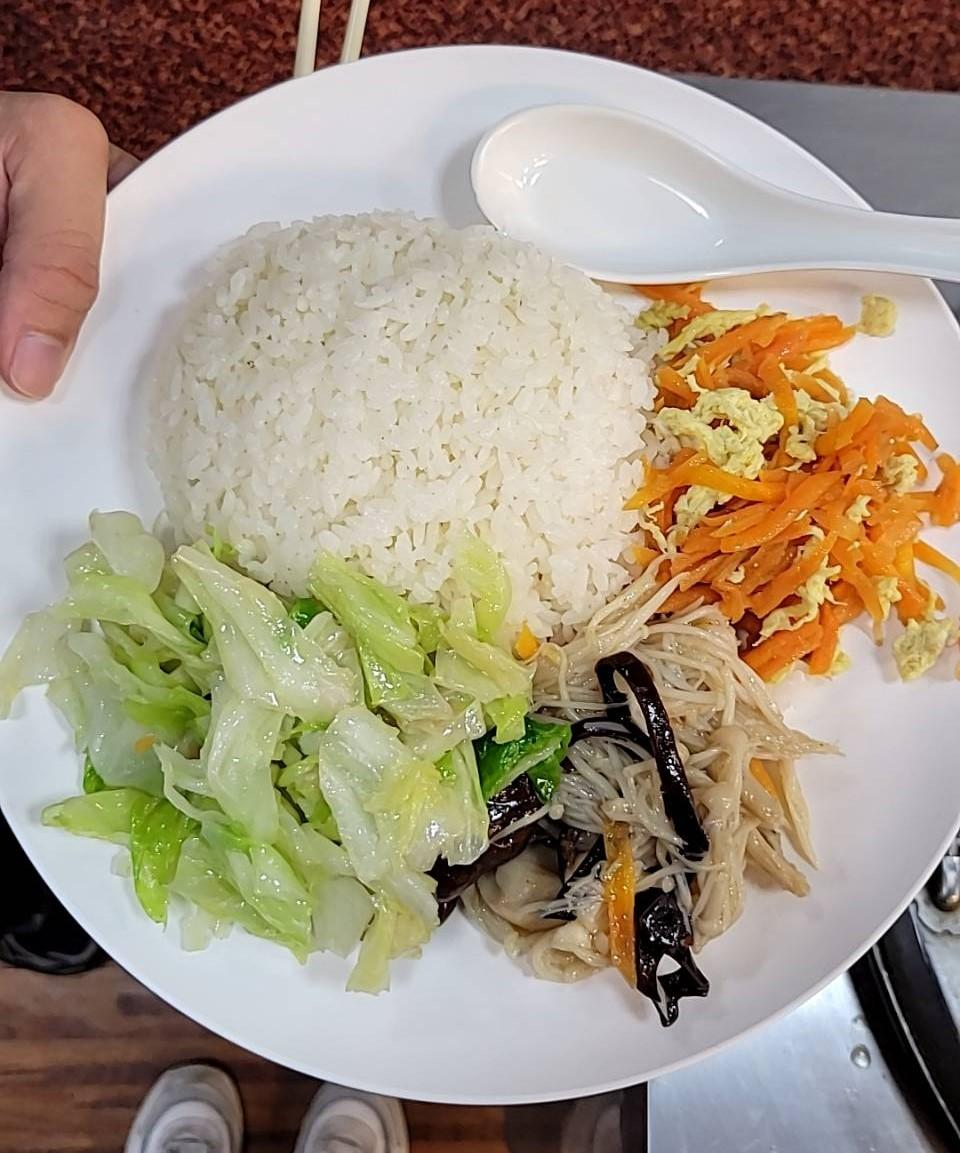big fried chicken leg: (0, 50, 960, 1120)
big herbal chicken leg: (143, 213, 643, 642)
braised fish fillet: (18, 511, 549, 968), (468, 598, 829, 1003), (631, 288, 943, 666)
